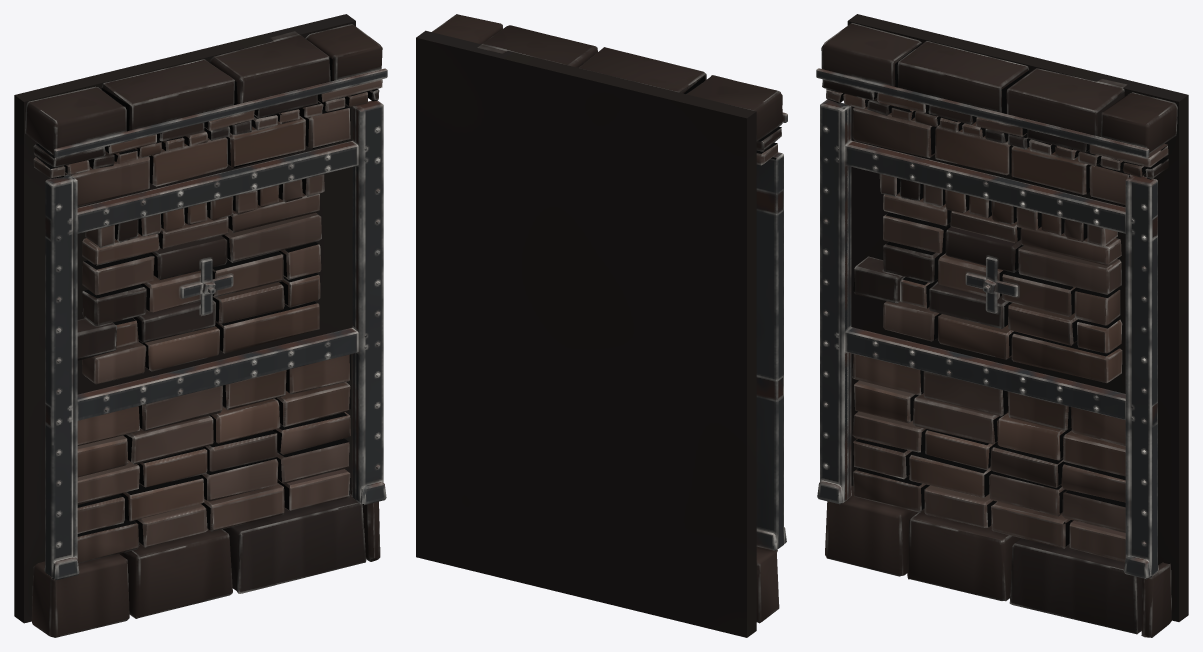
The model's file is foundry_wall.glb.
3 views of the same model, side by side, from view 1: azimuth 30°, elevation 25°; view 2: azimuth 150°, elevation 25°; view 3: azimuth 330°, elevation 25° (orthographic).
Parts seen in each view (by area): view 1: foundry_wall; view 2: foundry_wall; view 3: foundry_wall.
Boxes of the visible parts, x1,y1,x2,y2 form: foundry_wall: (14,14,387,637); foundry_wall: (416,14,787,637); foundry_wall: (816,14,1188,637).
Bounding box in the file's own units: 4 × 6.01 × 0.865.
1 material, 1 textured.
